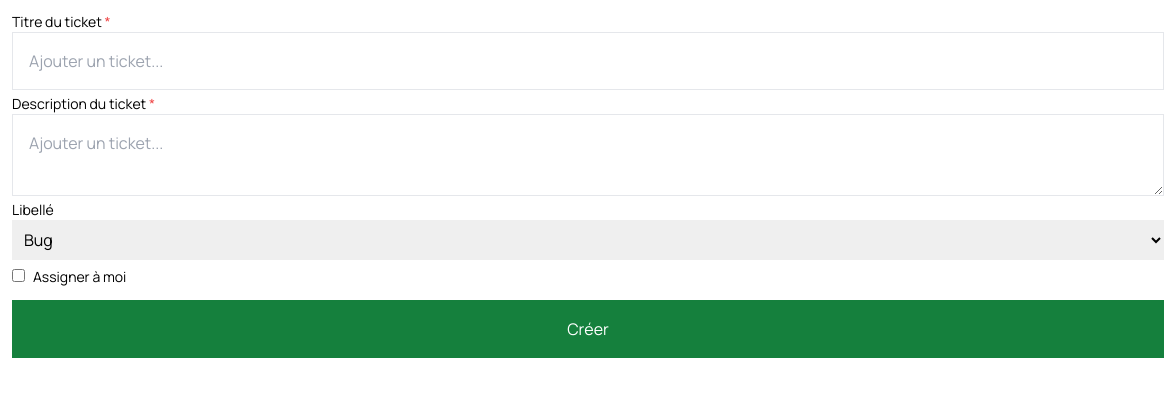
AddTodoForm › should display error message if title is empty
The width and height of the screenshot is (1176, 407).
Click the button "Créer" at (588, 329), box left=12, top=300, right=1164, bottom=358
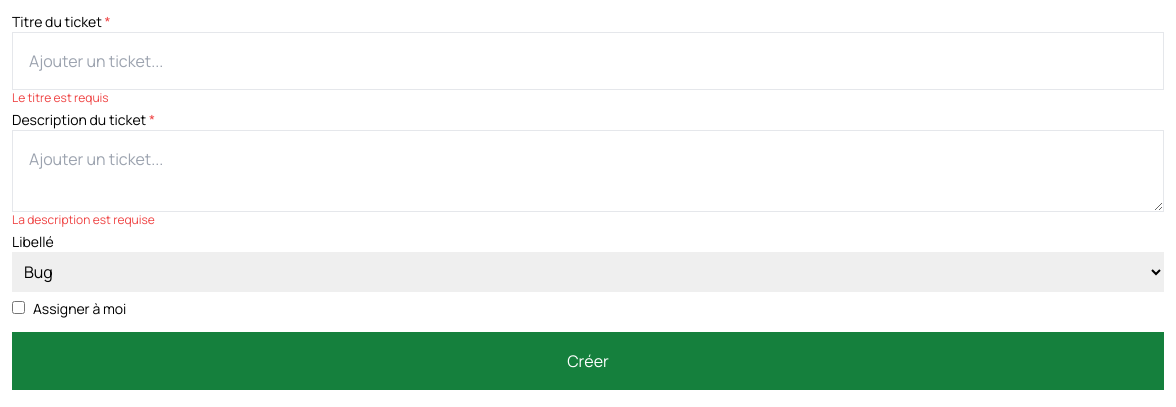
Check: the text "Le titre est requis" is shown, box left=12, top=89, right=109, bottom=106
